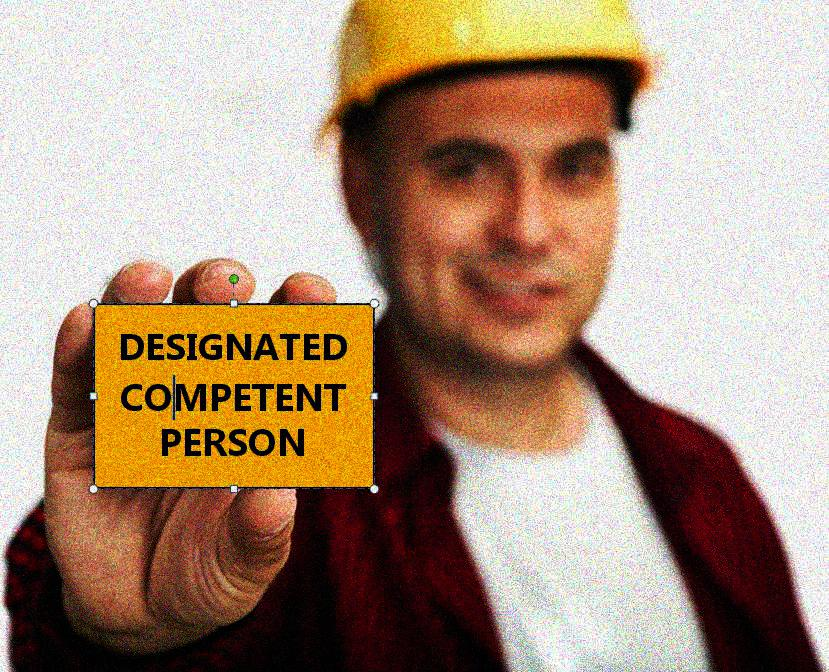helmet: (308, 1, 670, 358)
